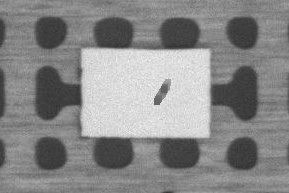DIE_INK: (152, 75, 174, 105)
